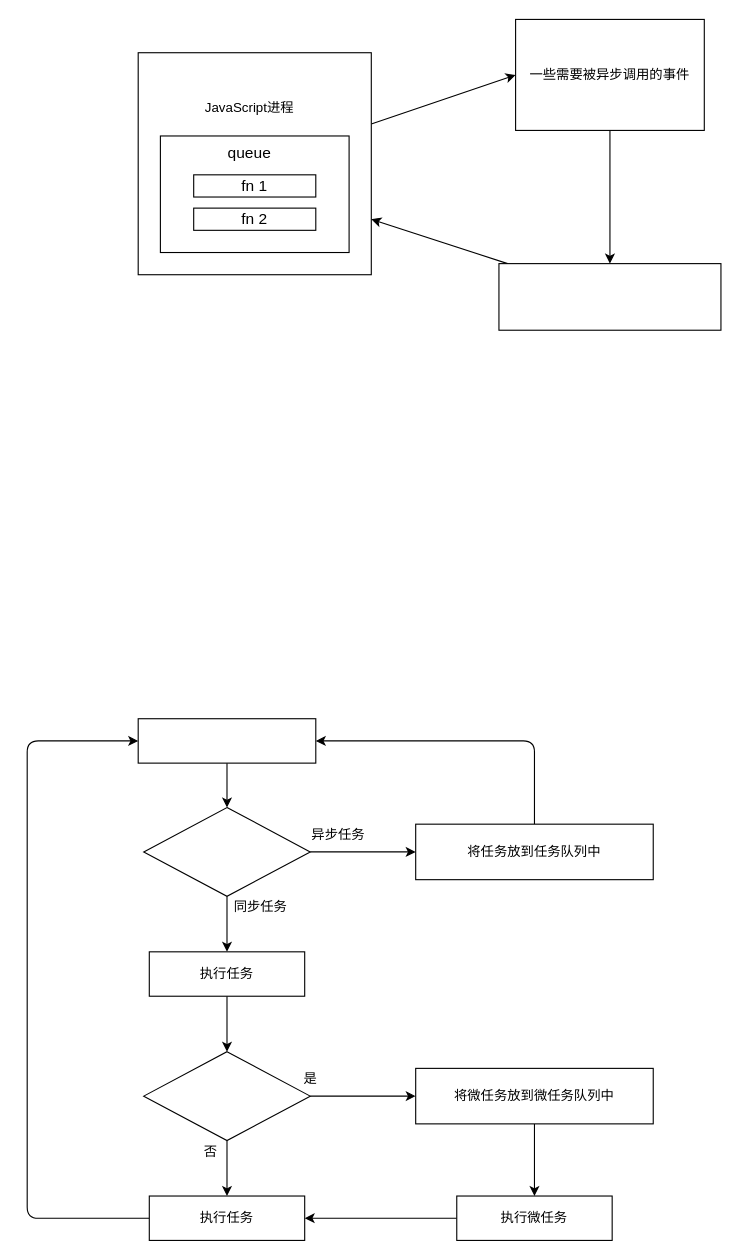
Image size: 740x1260. Some labels were removed from this diagram. The box of each missing label's shape, as (x1, y1, x2, y2) in pixels:
timer fn ajax callback: (498, 263, 721, 330)
判断任务类型: (143, 806, 310, 896)
判断是否有微任务: (143, 1051, 310, 1141)
执行栈中的任务: (137, 718, 316, 763)
